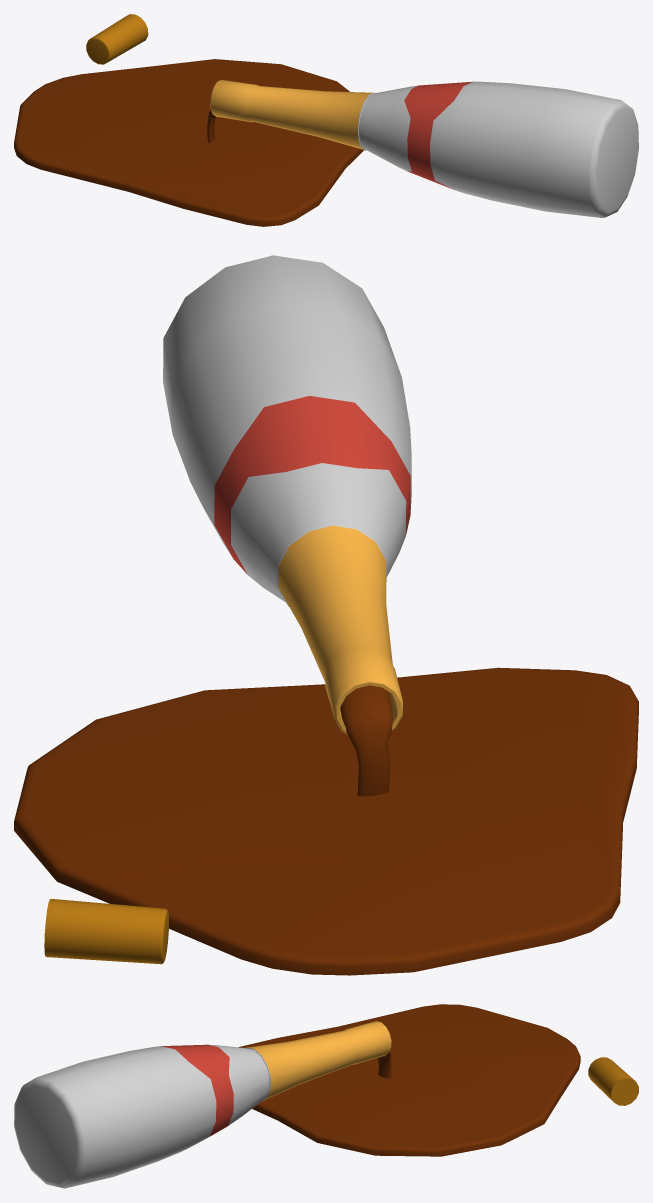
Rendered from Broken-Wine-Bottle.fbx.
3 views of the same model, one above another, from view 1: azimuth 30°, elevation 25°; view 2: azimuth 150°, elevation 25°; view 3: azimuth 270°, elevation 25° (orthographic). The views are drawn at different scales.
Parts seen in each view (by area): view 1: Broken-Wine-Bottle; view 2: Broken-Wine-Bottle; view 3: Broken-Wine-Bottle.
Part boxes in pixels (<box>): Broken-Wine-Bottle: <box>14,14,638,226</box>; Broken-Wine-Bottle: <box>14,255,638,975</box>; Broken-Wine-Bottle: <box>14,1004,638,1188</box>.
Size of the model in its own units: 0.8146 by 0.2085 by 1.08.
